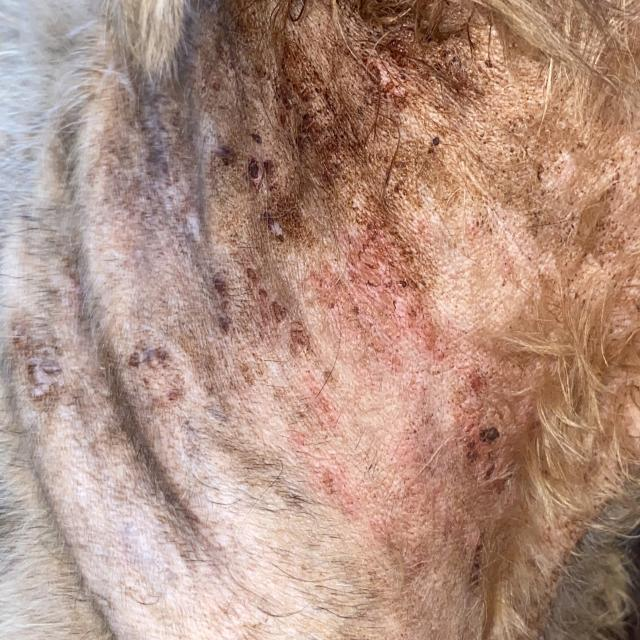demodicosis: (208, 30, 589, 546), (22, 290, 186, 485)
